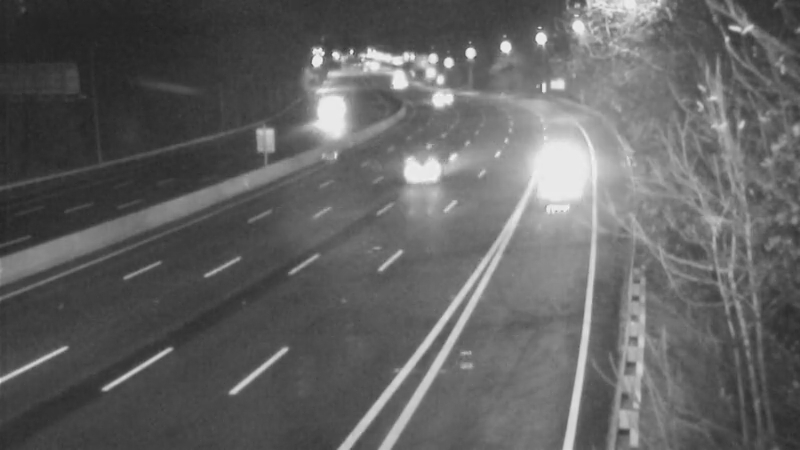vehicle: (380, 129, 460, 209), (522, 135, 602, 215), (416, 72, 466, 122), (297, 92, 347, 142)
